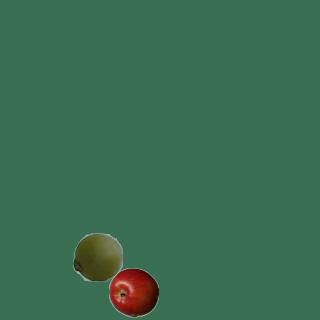Apple Braeburn: (108, 267, 158, 317)
Grape White 4: (72, 231, 122, 281)
